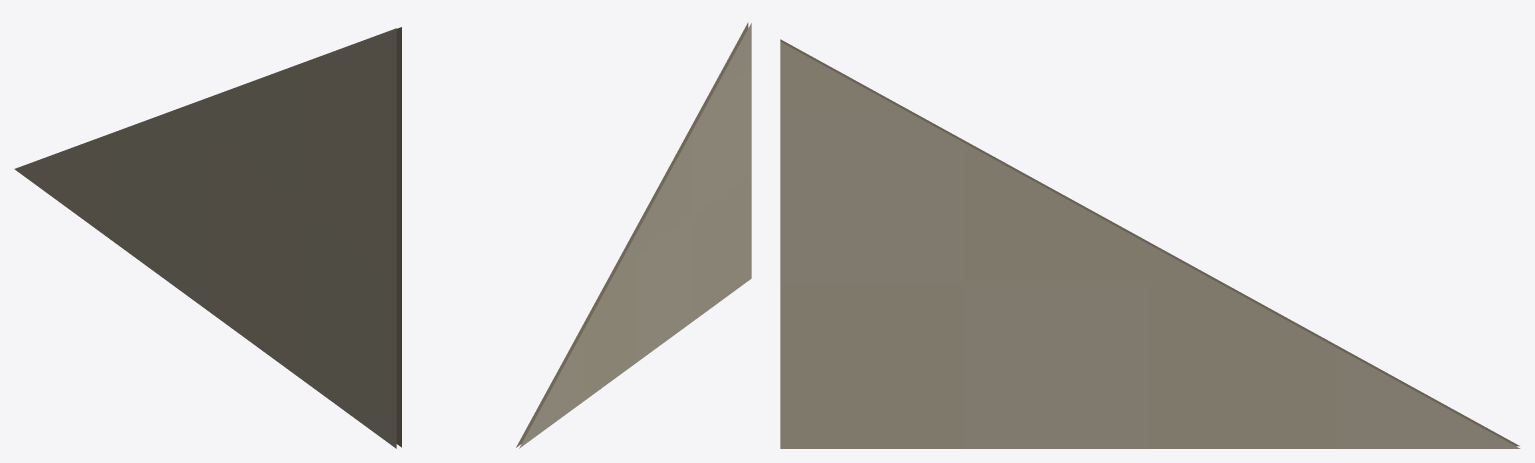
The model's file is wall-plaster-gable-l.glb.
The picture shows the model from 3 angles, left to right: view 1: azimuth 30°, elevation 25°; view 2: azimuth 150°, elevation 25°; view 3: azimuth 270°, elevation 25°; orthographic projection. The views are drawn at different scales.
Parts seen in each view (by area): view 1: wall-plaster-gable-l; view 2: wall-plaster-gable-l; view 3: wall-plaster-gable-l.
Boxes of the visible parts, <box> form: wall-plaster-gable-l: <box>14,27,401,448</box>; wall-plaster-gable-l: <box>516,22,751,448</box>; wall-plaster-gable-l: <box>780,39,1520,448</box>.
Bounding box in the file's own units: 0.088 × 0.607 × 1.
